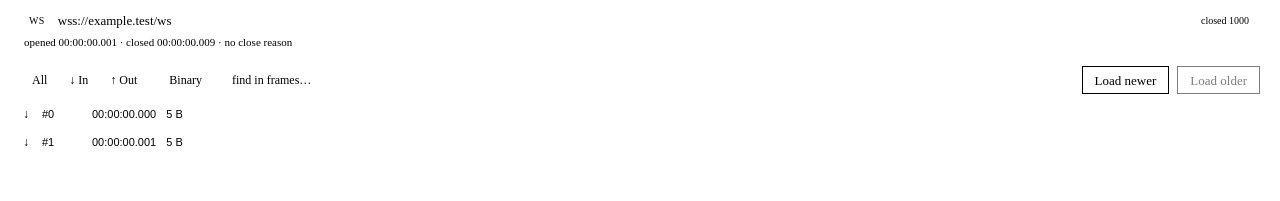
Test: FrameTimeline › shows Load newer in the toolbar when a closed window is short of the tip, and pulls the next page (D1)
Click the button "Load newer".
click(1125, 80)  # box [1082,66,1169,94]
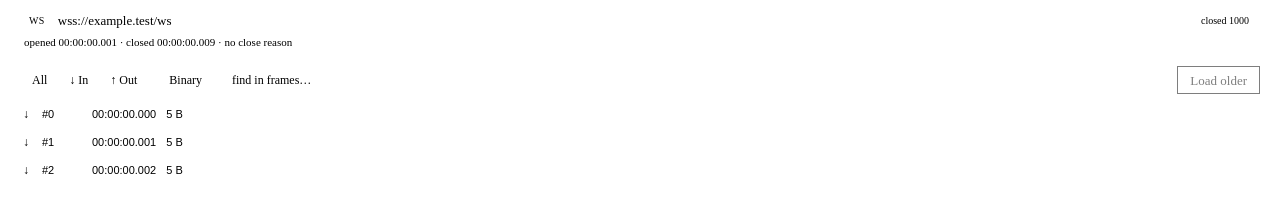
expect the button with test id "ws-frame-2" is shown: met, box [8,156,1272,184]
expect the button "Load newer" is gone: met
